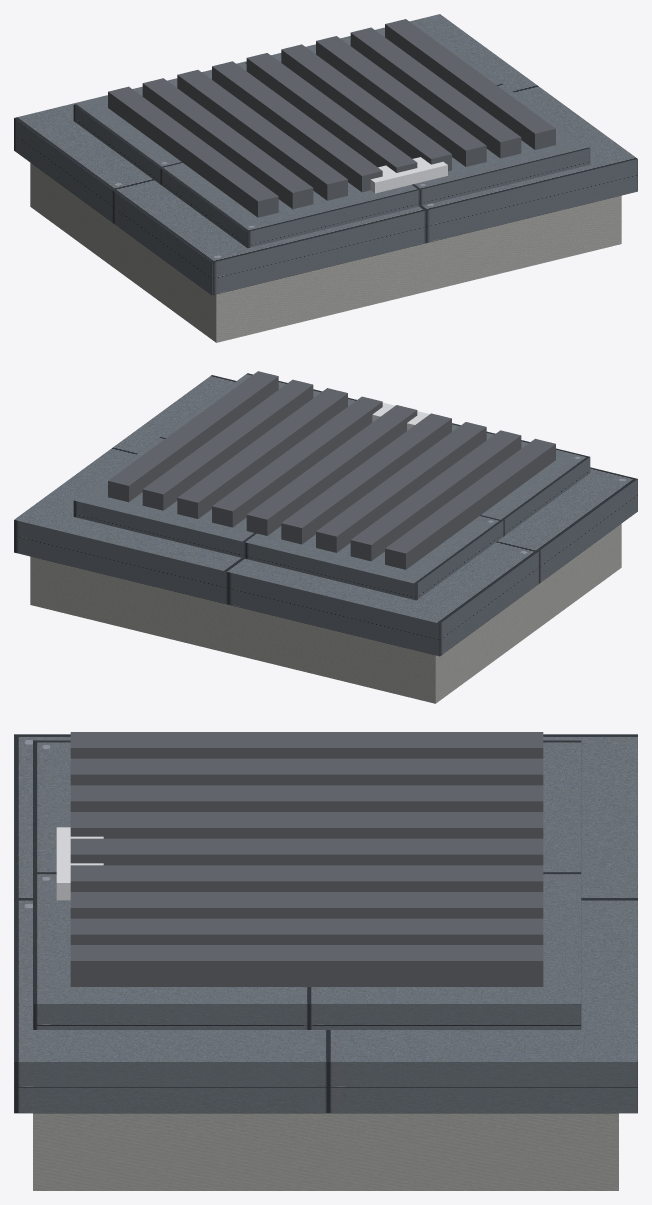
The model's file is fire-and-emergency-services-drain-cover-8c39089e__29937.glb.
3 views of the same model, one above another, from view 1: azimuth 30°, elevation 25°; view 2: azimuth 150°, elevation 25°; view 3: azimuth 270°, elevation 25° (orthographic). The views are drawn at different scales.
Parts seen in each view (by area): view 1: drain-cover, cover/plastic, cover/tread, cover/chrome; view 2: drain-cover, cover/plastic, cover/tread; view 3: cover/plastic, drain-cover, cover/tread, cover/chrome.
Boxes of the visible parts, x1,y1,x2,y2 form: drain-cover: (14,14,637,342); cover/plastic: (108,19,555,217); cover/tread: (73,21,590,248); cover/chrome: (370,157,447,193); drain-cover: (14,375,637,703); cover/plastic: (108,371,555,569); cover/tread: (73,373,590,600); cover/plastic: (70,732,543,986); drain-cover: (14,734,637,1190); cover/tread: (33,740,581,1029); cover/chrome: (56,827,103,900).
Bounding box in the file's own units: 0.82 × 0.22 × 0.66.
4 materials, 2 textured.
